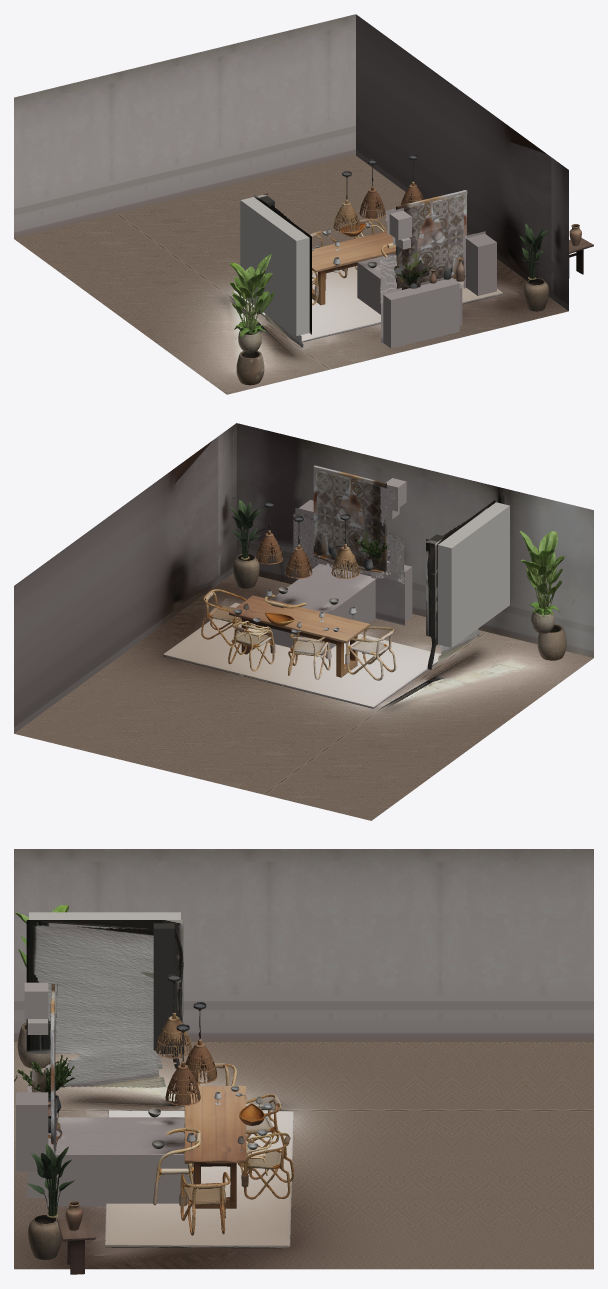
File: scene_lite.glb
3 renders of one model, top to bottom at view 1: azimuth 30°, elevation 25°; view 2: azimuth 150°, elevation 25°; view 3: azimuth 270°, elevation 25°, orthographic. The views are drawn at different scales.
Parts seen in each view (by area): view 1: room_wall_z_min, room_floor, room_wall_x_max, room_builtin_00_body, 041_wall_art, room_builtin_01_body, 031_rug, 028_plant, 018_dining_table, room_builtin_02_body, room_builtin_03_body, room_relief_01 (+6 smaller); view 2: room_floor, room_wall_x_max, room_wall_z_max, 031_rug, room_builtin_00_body, 041_wall_art, 018_dining_table, room_builtin_03_face, 028_plant, room_relief_01, room_builtin_01_face, room_builtin_03_body (+13 smaller); view 3: room_wall_x_min, room_floor, room_relief_00, 031_rug, room_builtin_03_body, 018_dining_table, room_builtin_03_face, room_builtin_00_face, room_builtin_02_body, room_builtin_04_body, 012_dining_chair, 009_dining_chair (+14 smaller).
Part boxes in pixels (<box>): room_wall_z_min: <box>14,14,355,238</box>; room_floor: <box>14,155,568,394</box>; room_wall_x_max: <box>356,14,568,310</box>; room_builtin_00_body: <box>240,197,309,336</box>; 041_wall_art: <box>396,190,467,288</box>; room_builtin_01_body: <box>383,278,459,348</box>; 031_rug: <box>233,266,503,342</box>; 028_plant: <box>229,254,275,352</box>; 018_dining_table: <box>312,231,395,305</box>; room_builtin_02_body: <box>466,234,496,295</box>; room_builtin_03_body: <box>357,262,462,325</box>; room_relief_01: <box>380,234,472,302</box>; room_floor: <box>14,573,593,820</box>; room_wall_x_max: <box>14,423,236,733</box>; room_wall_z_max: <box>236,423,593,657</box>; 031_rug: <box>163,602,441,708</box>; room_builtin_00_body: <box>438,502,509,647</box>; 041_wall_art: <box>313,465,386,571</box>; 018_dining_table: <box>229,595,370,677</box>; room_builtin_03_face: <box>271,563,375,613</box>; 028_plant: <box>519,530,565,633</box>; room_relief_01: <box>293,513,404,583</box>; room_builtin_01_face: <box>329,558,404,625</box>; room_builtin_03_body: <box>270,579,375,655</box>; room_wall_x_min: <box>14,849,593,1041</box>; room_floor: <box>14,1042,593,1269</box>; room_relief_00: <box>32,925,183,1088</box>; 031_rug: <box>105,1110,293,1248</box>; room_builtin_03_body: <box>47,1154,190,1206</box>; 018_dining_table: <box>184,1085,246,1208</box>; room_builtin_03_face: <box>48,1117,184,1153</box>; room_builtin_00_face: <box>26,920,183,1053</box>; room_builtin_02_body: <box>16,1092,48,1171</box>; room_builtin_04_body: <box>153,923,174,1050</box>; 012_dining_chair: <box>238,1132,294,1199</box>; 009_dining_chair: <box>179,1172,230,1235</box>.
Size of the model in its own units: 2.53 by 0.8873 by 2.42.
Materials: 60 (60 with a texture image).
